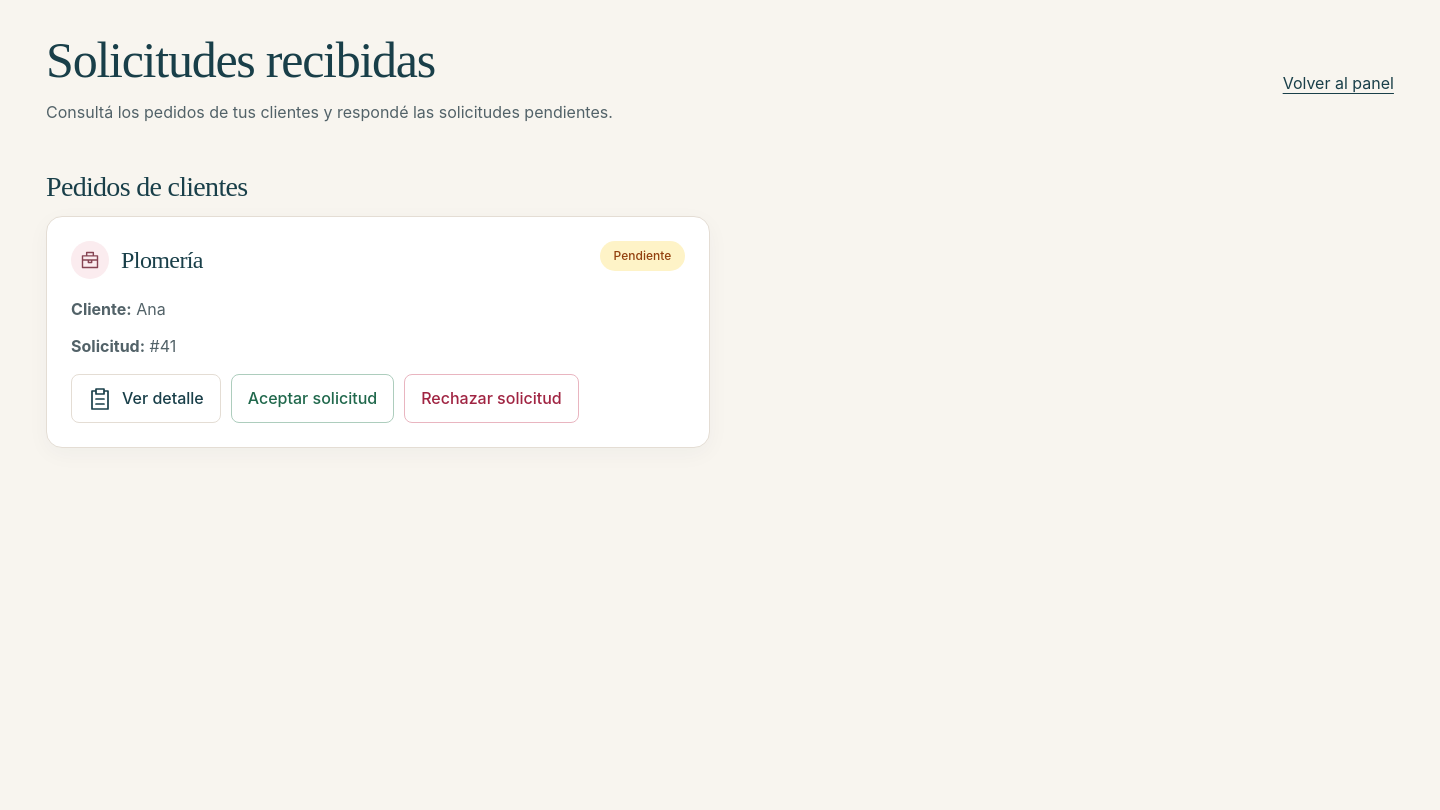
Test case: Solicitudes recibidas con formatos alternativos › conserva la confirmación del servidor aunque falle la recarga posterior
The width and height of the screenshot is (1440, 810).
Click the button "Aceptar solicitud".
click(312, 399)  # box 231,374 -> 394,423
(page scrolled)
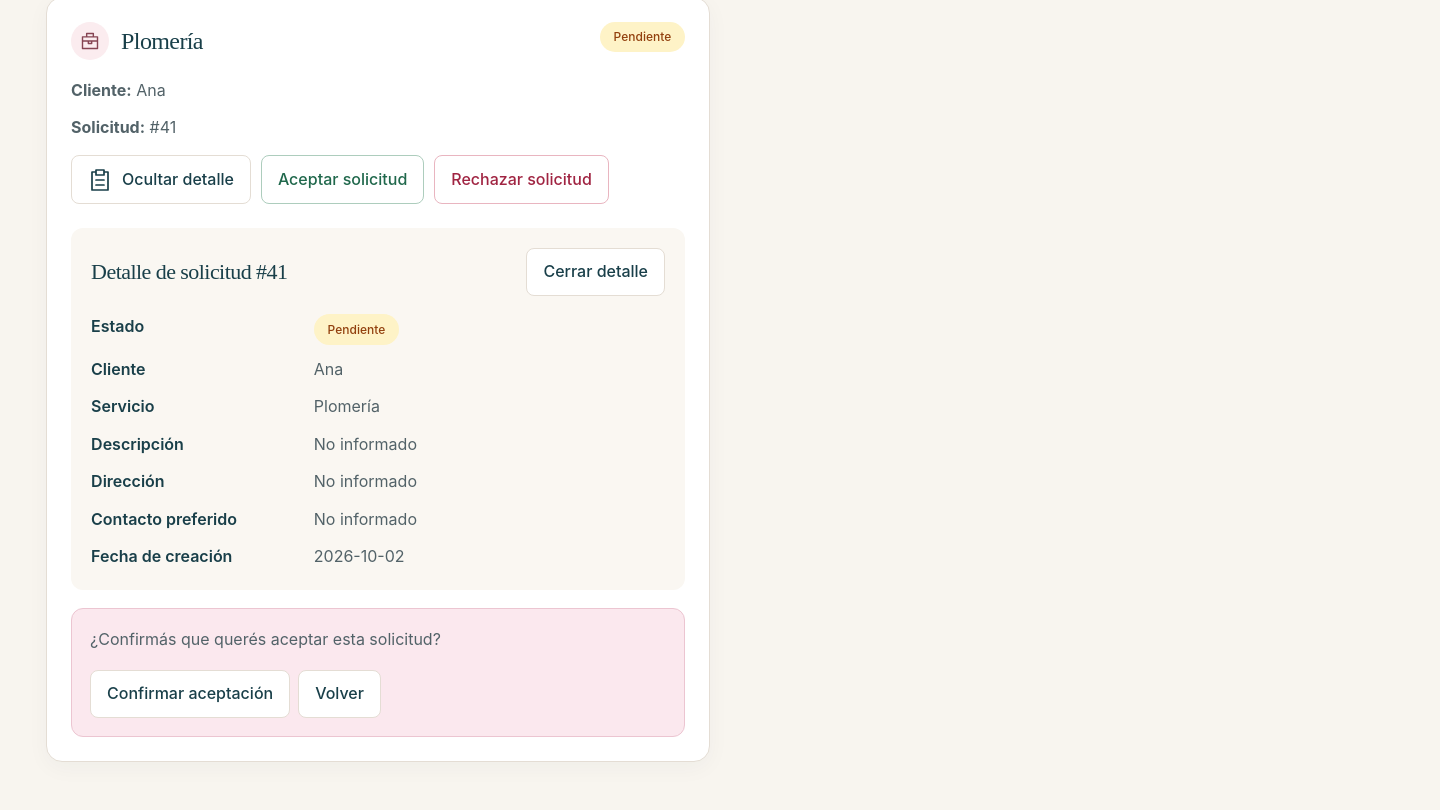
Click the button "Confirmar aceptación".
click(190, 694)  # box 90,670 -> 290,718
(page scrolled)
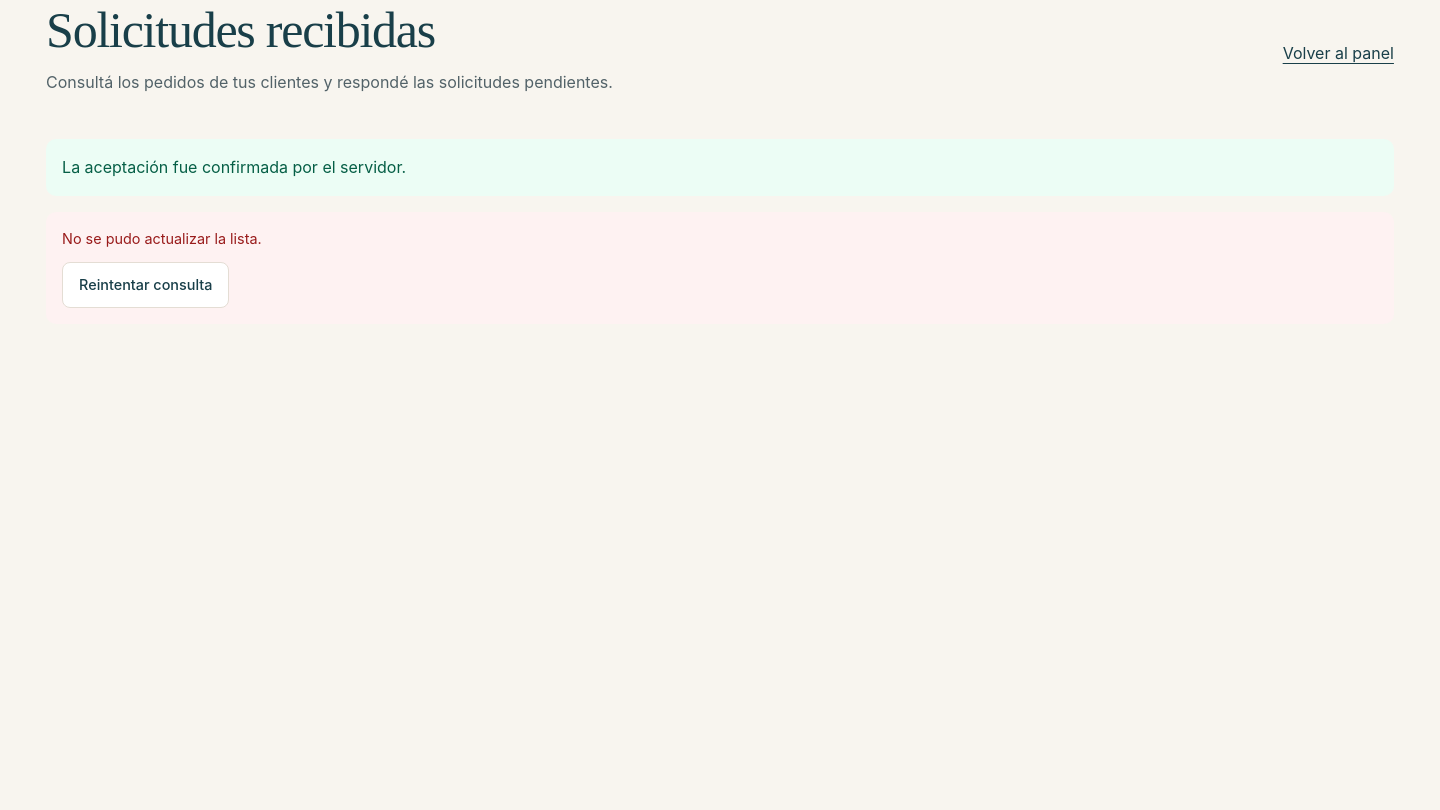
Result: the text "No se pudo actualizar la lista." is shown at 62,230 -> 262,247
Result: the text "La aceptación fue confirmada por el servidor." is shown at 46,139 -> 1394,196
